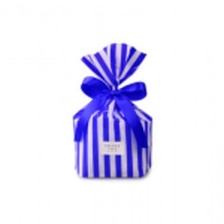snack: (59, 37, 161, 185)
